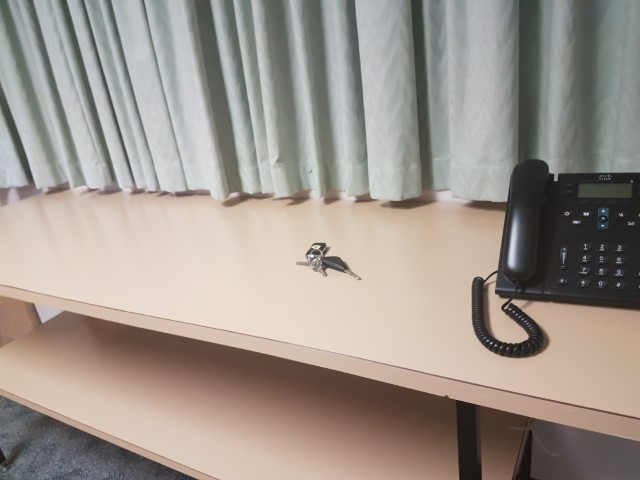key: (320, 255, 362, 281)
